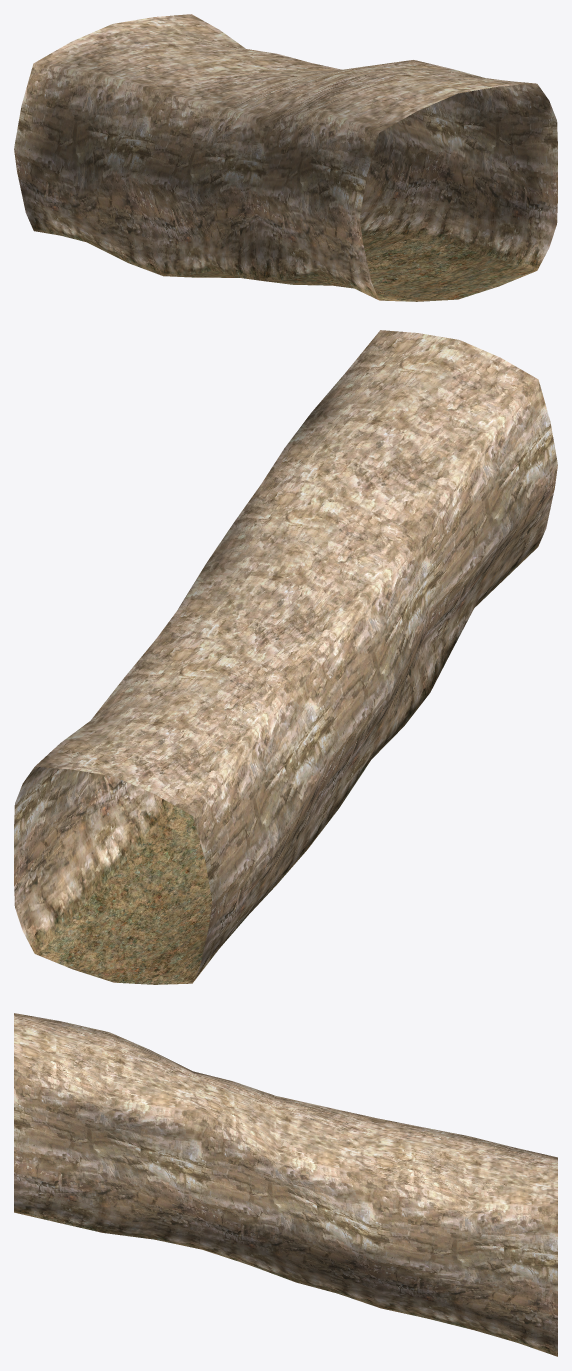
File: thm_all_cave_s03_r7_mesh_r7.fbx
3 renders of one model, top to bottom at view 1: azimuth 30°, elevation 25°; view 2: azimuth 150°, elevation 25°; view 3: azimuth 270°, elevation 25°, orthographic. The views are drawn at different scales.
Parts seen in each view (by area): view 1: mesh_node; view 2: mesh_node; view 3: mesh_node.
Part boxes in pixels (x1=…): mesh_node: x1=14, y1=14, x2=557, y2=301; mesh_node: x1=14, y1=330, x2=557, y2=984; mesh_node: x1=14, y1=1013, x2=557, y2=1356.
Bounding box in the file's own units: 8.34 × 14.93 × 24.
